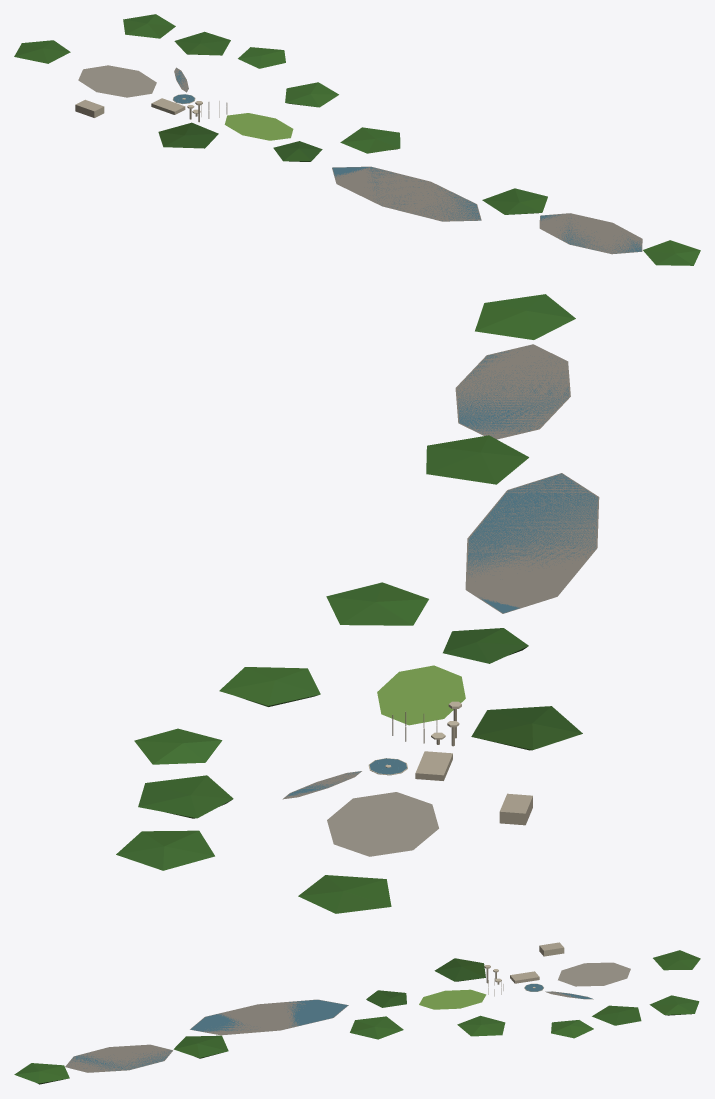
The picture shows the model from 3 angles, top to bottom: view 1: azimuth 30°, elevation 25°; view 2: azimuth 150°, elevation 25°; view 3: azimuth 270°, elevation 25°; orthographic projection. The views are drawn at different scales.
Parts seen in each view (by area): view 1: flushing-meadows-lod3; view 2: flushing-meadows-lod3; view 3: flushing-meadows-lod3.
Part boxes in pixels (x1=…): flushing-meadows-lod3: x1=14, y1=14, x2=700, y2=265; flushing-meadows-lod3: x1=116, y1=294, x2=599, y2=913; flushing-meadows-lod3: x1=14, y1=942, x2=700, y2=1084.
Bounding box in the file's own units: 2163 × 124 × 4576.
